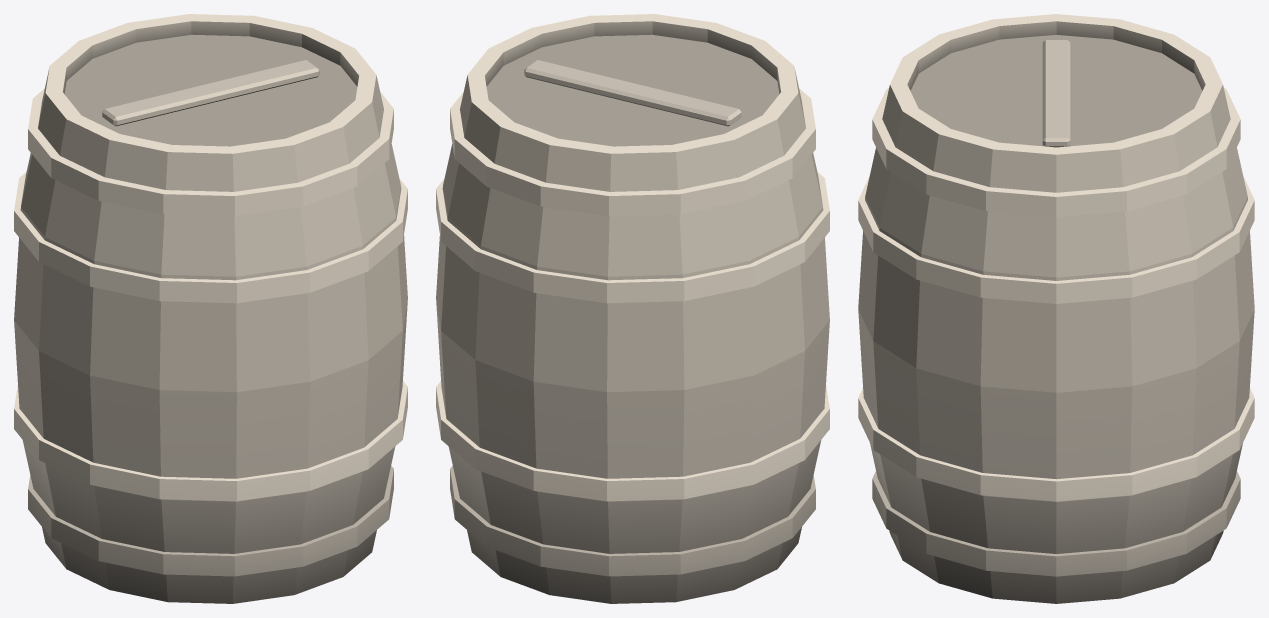
Rendered from SM_VKI_Prop_Barrel.fbx.
The picture shows the model from 3 angles, left to right: view 1: azimuth 30°, elevation 25°; view 2: azimuth 150°, elevation 25°; view 3: azimuth 270°, elevation 25°; orthographic projection.
Parts seen in each view (by area): view 1: SM_VKI_Prop_Barrel.001; view 2: SM_VKI_Prop_Barrel.001; view 3: SM_VKI_Prop_Barrel.001.
Part boxes in pixels (x1=…): SM_VKI_Prop_Barrel.001: x1=14, y1=14, x2=407, y2=603; SM_VKI_Prop_Barrel.001: x1=436, y1=14, x2=829, y2=603; SM_VKI_Prop_Barrel.001: x1=858, y1=14, x2=1254, y2=603.
Size of the model in its own units: 0.8 by 1 by 0.8.
